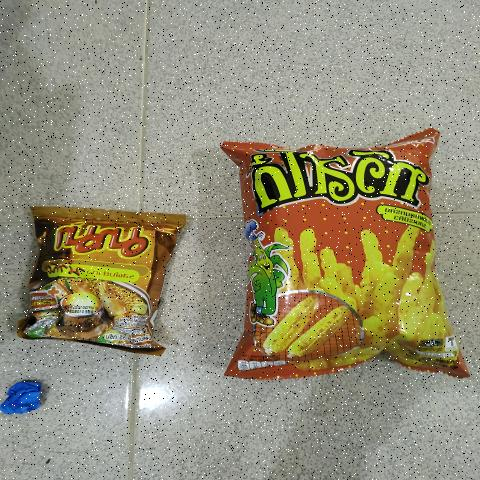mama: (29, 214, 162, 350)
twisco: (252, 138, 424, 349)
